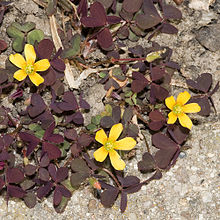oxalis: (9, 29, 220, 194)
